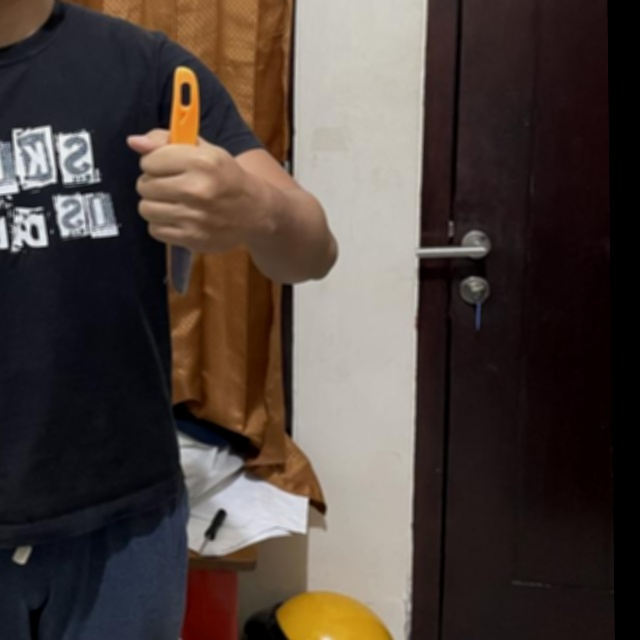Sharp-Object: (167, 64, 205, 300)
